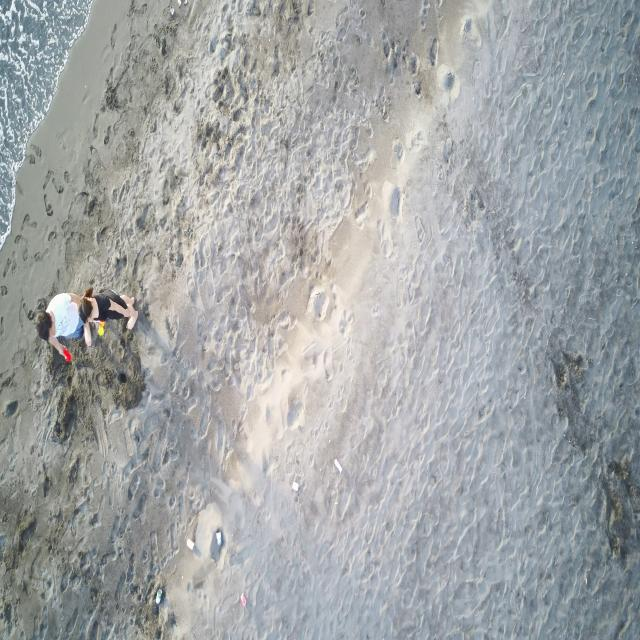tin-and-aluminum-cans: (333, 457, 343, 474), (186, 537, 196, 552), (215, 530, 223, 546), (291, 480, 299, 492), (156, 588, 162, 603), (241, 593, 246, 607)
